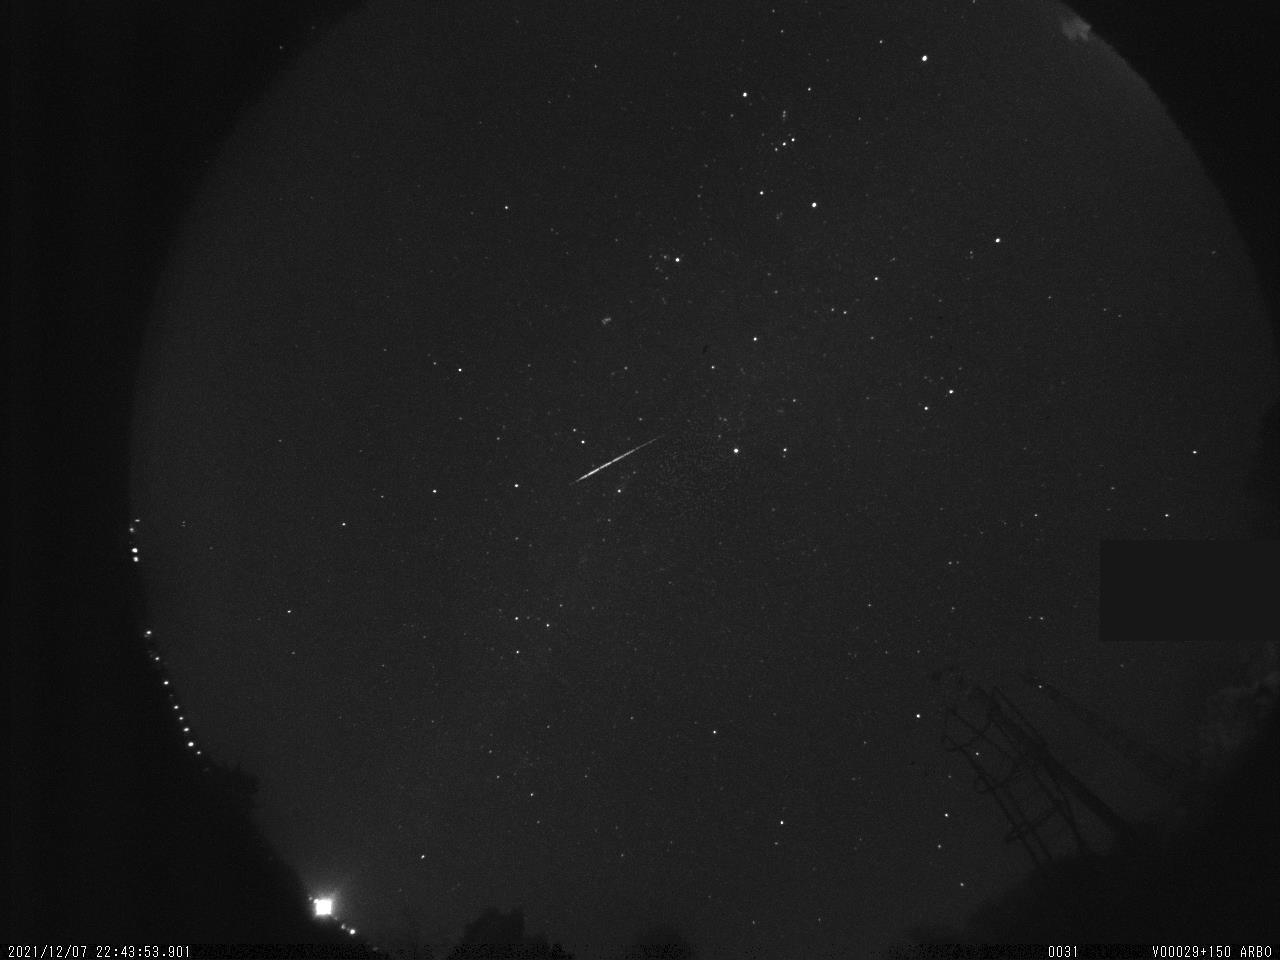meteor: (553, 419, 676, 504)
